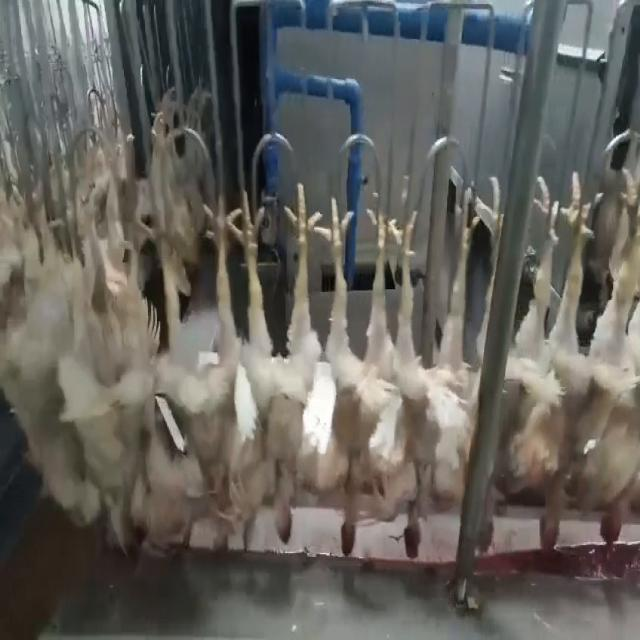chicken: (492, 166, 590, 560), (394, 175, 492, 564), (316, 195, 397, 568), (172, 183, 247, 550), (246, 179, 312, 552), (578, 165, 639, 546)
